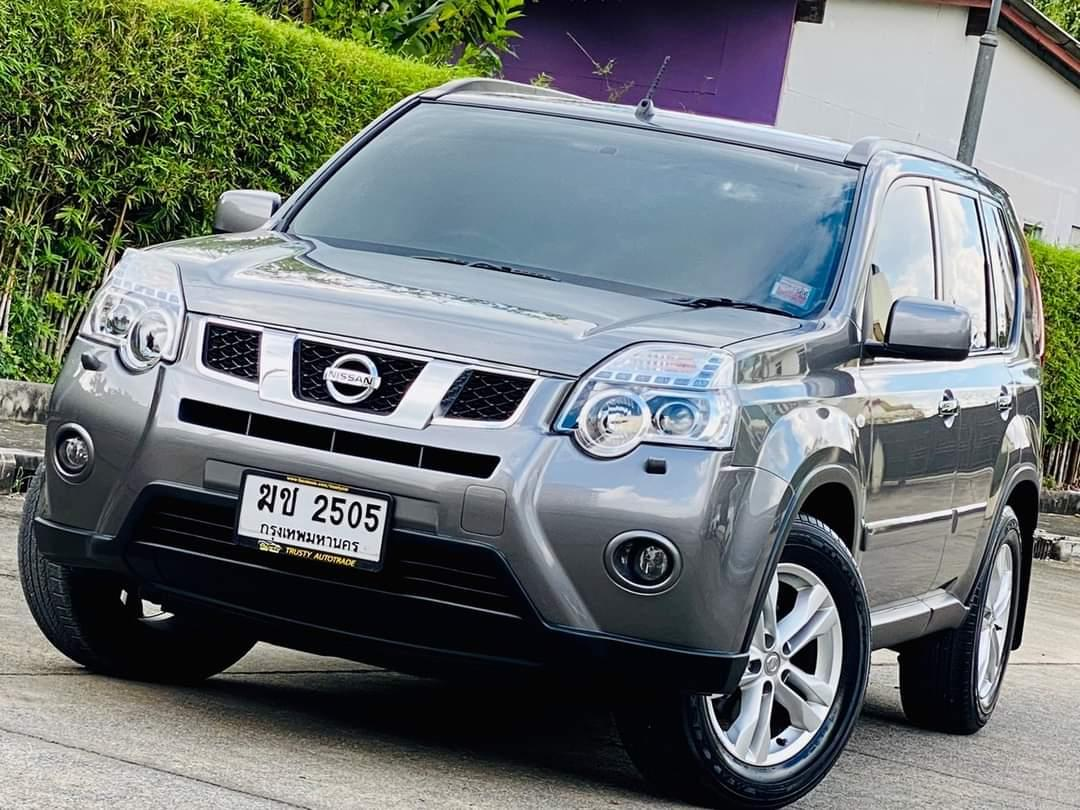license-plate: (229, 464, 398, 581)
